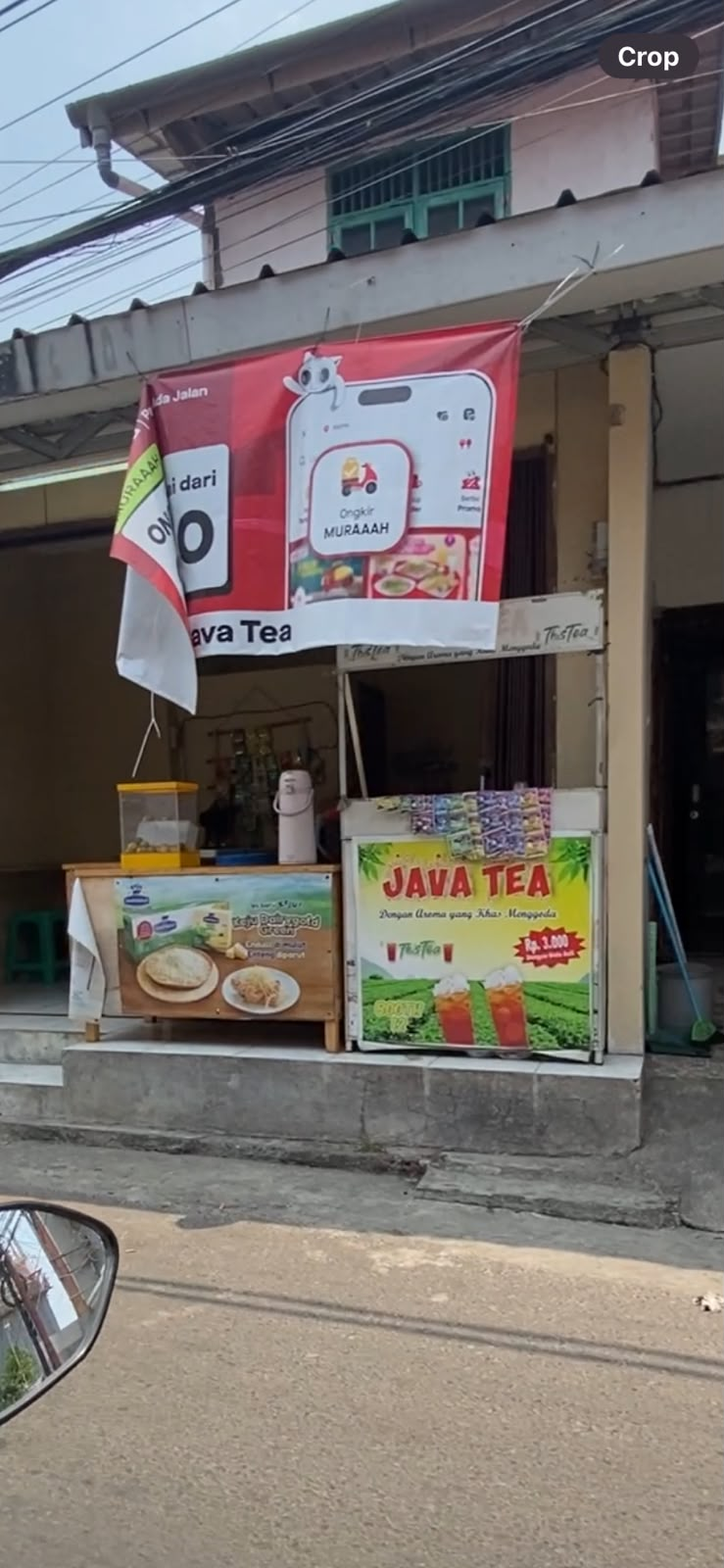gerobak: (337, 646, 605, 1062), (66, 771, 344, 1052), (499, 592, 603, 663)
